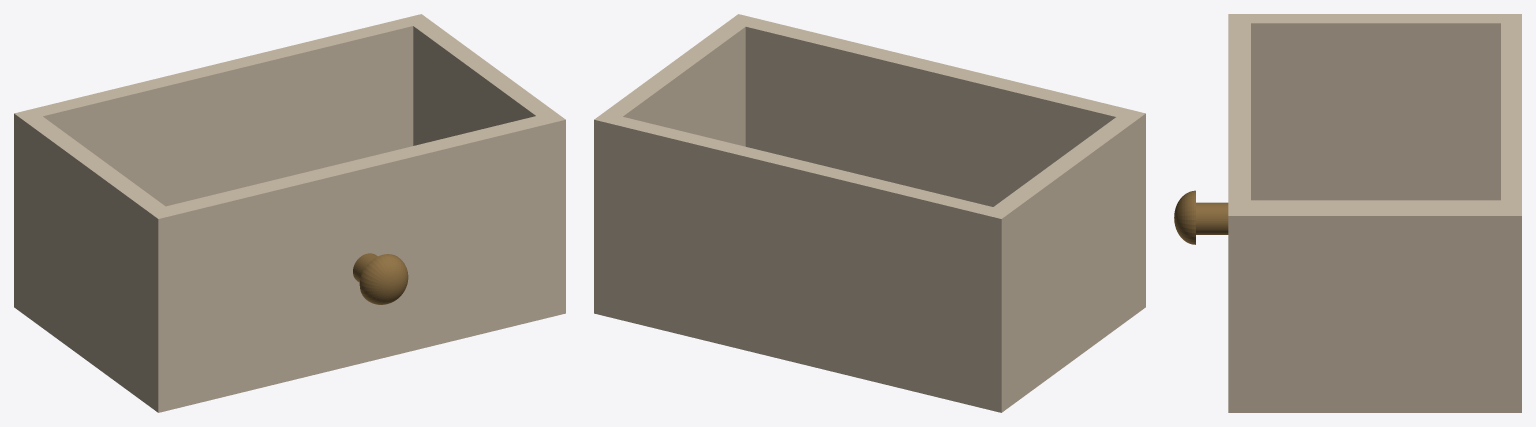
Rendered from Super Turing-Krunk.glb.
The picture shows the model from 3 angles, left to right: view 1: azimuth 30°, elevation 25°; view 2: azimuth 150°, elevation 25°; view 3: azimuth 270°, elevation 25°; orthographic projection.
Parts seen in each view (by area): view 1: Mesh_Mesh_head_geo.001_lambert2SG.001; view 2: Mesh_Mesh_head_geo.001_lambert2SG.001; view 3: Mesh_Mesh_head_geo.001_lambert2SG.001.
Boxes of the visible parts, x1,y1,x2,y2 form: Mesh_Mesh_head_geo.001_lambert2SG.001: (14, 14, 565, 412); Mesh_Mesh_head_geo.001_lambert2SG.001: (594, 14, 1145, 412); Mesh_Mesh_head_geo.001_lambert2SG.001: (1174, 14, 1521, 412).
Size of the model in its own units: 44 by 20 by 32.
